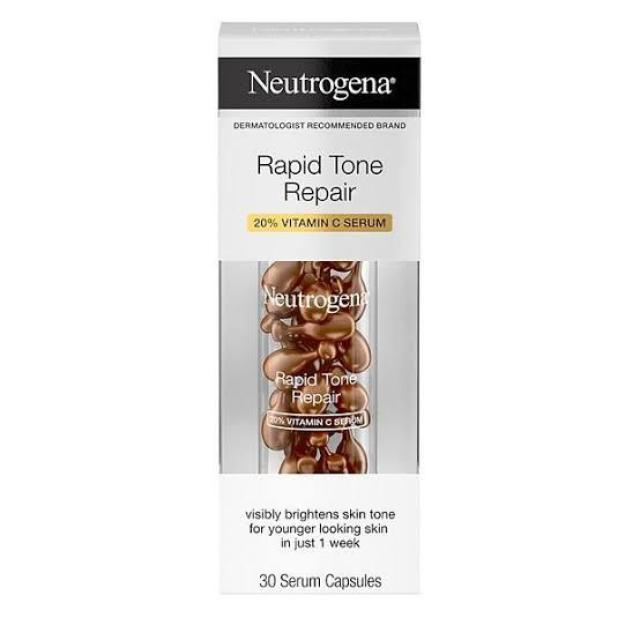lotion-moisture: (223, 46, 434, 594)
